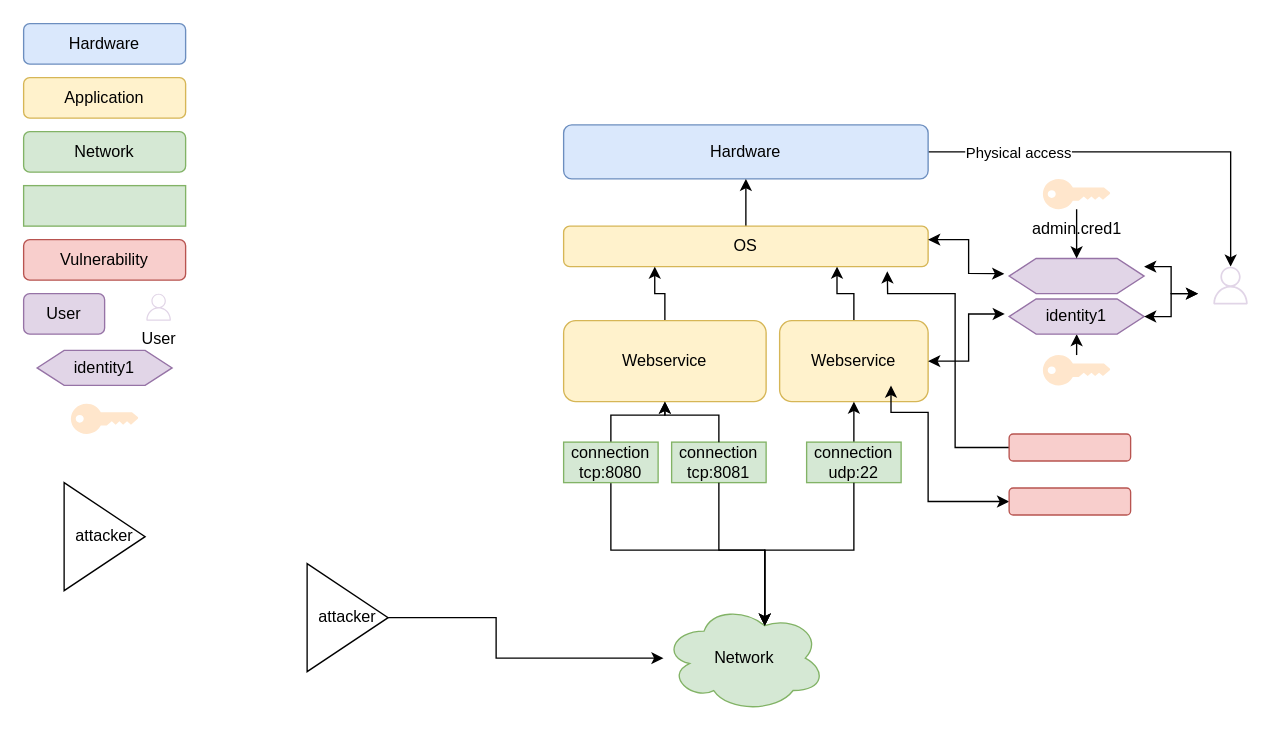
Image size: 1274x736. Some labels were removed from this diagram. The shapes that lost their labels are listed below. From the top down, each one's centre as x and y in pixels, then its label:
At point (104, 205): "connection rule".
At point (1076, 275): "admin.identity1".
At point (1229, 284): "user1".
At point (1076, 369): "cred1".
At point (104, 418): "Credential".
At point (1069, 447): "OS Vuln".
At point (1069, 501): "Service Vuln".
